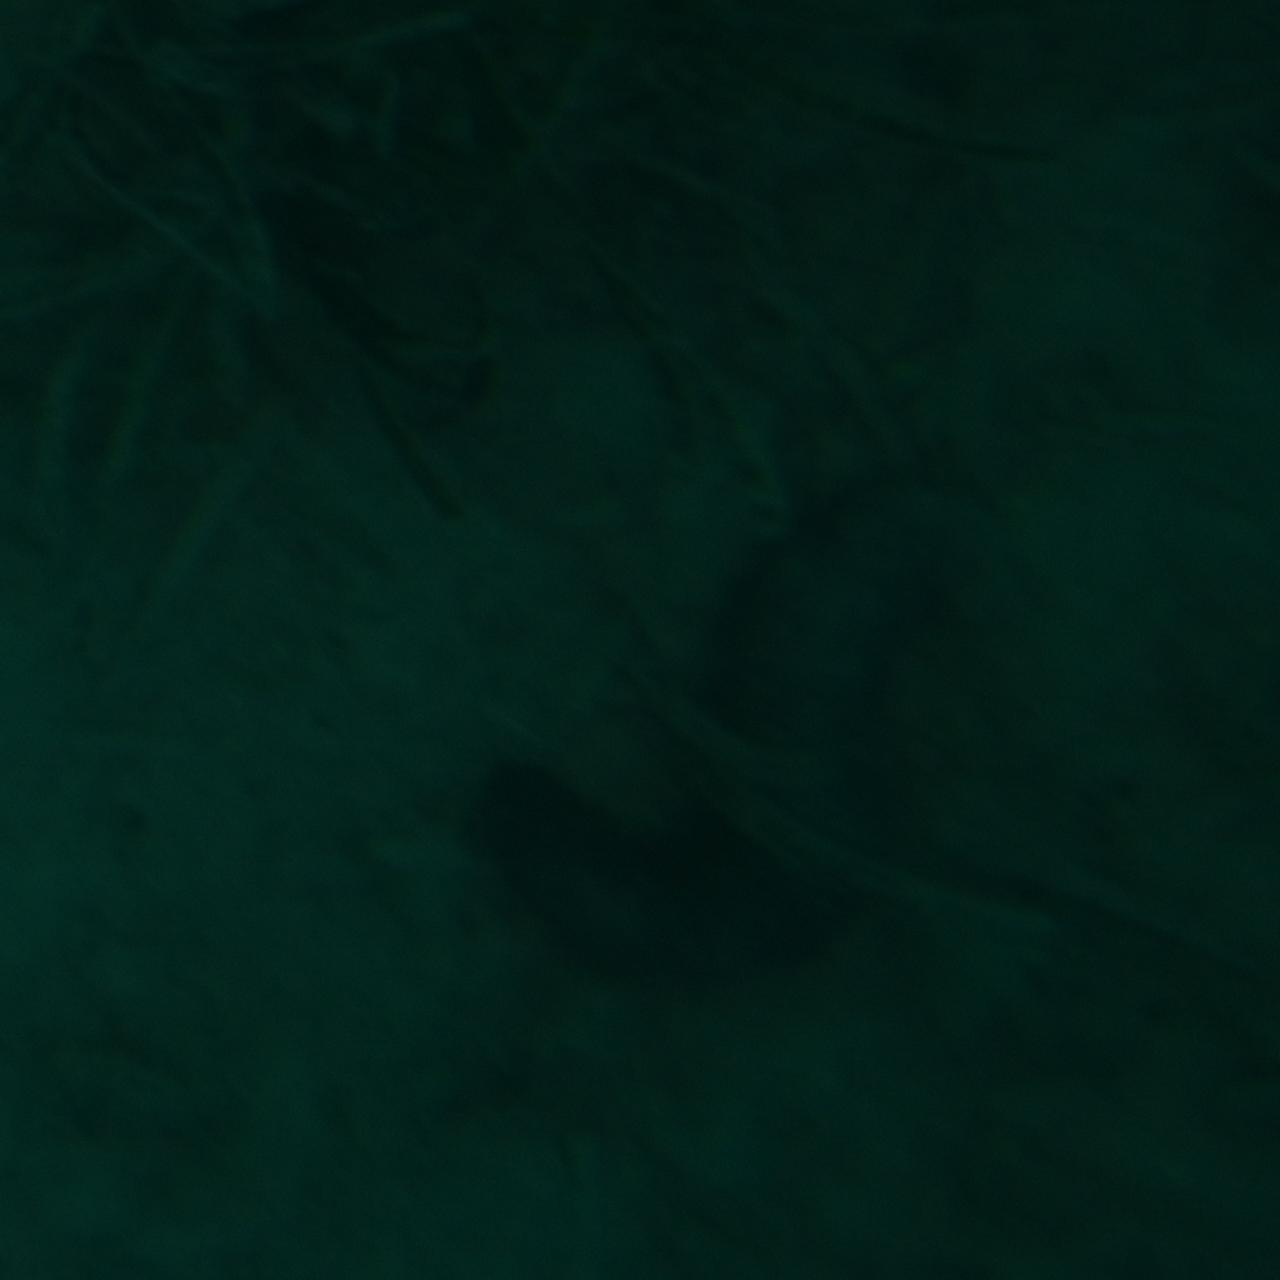Holothuria tubulosa: (448, 477, 996, 1020)
